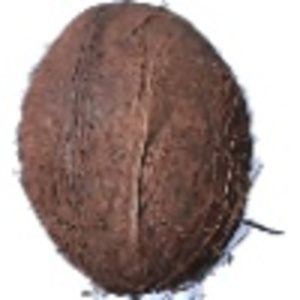coco: (16, 1, 280, 300)
